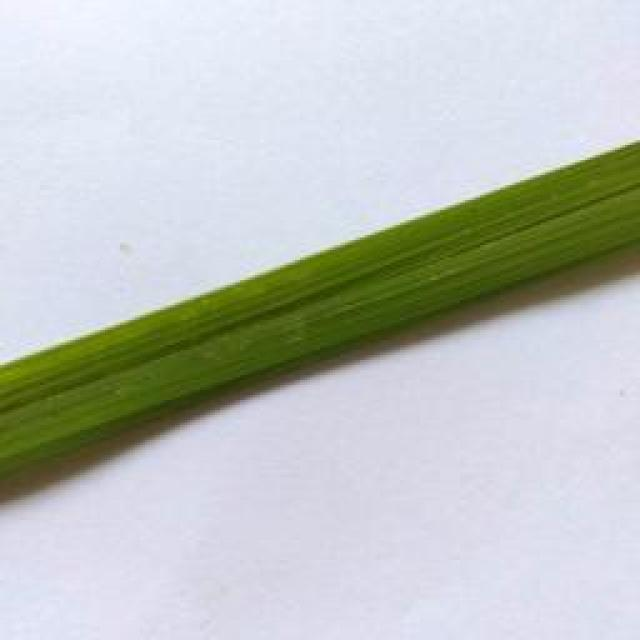Healthy-Plant: (0, 128, 640, 502)
